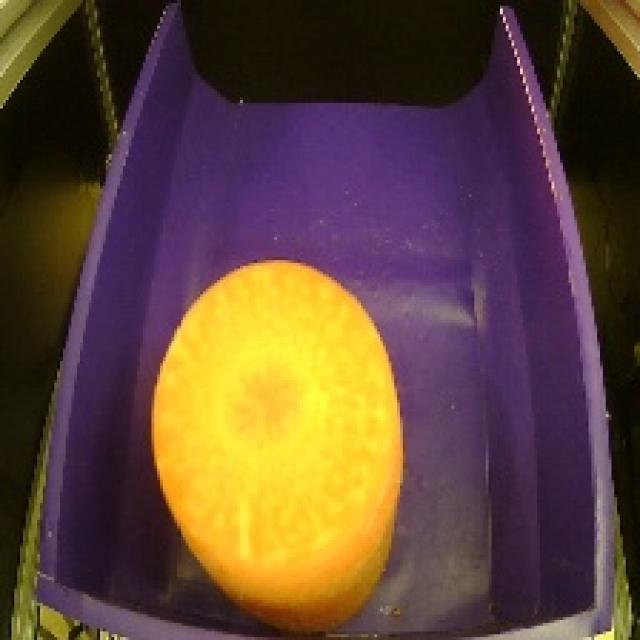carrots: (139, 252, 412, 639)
